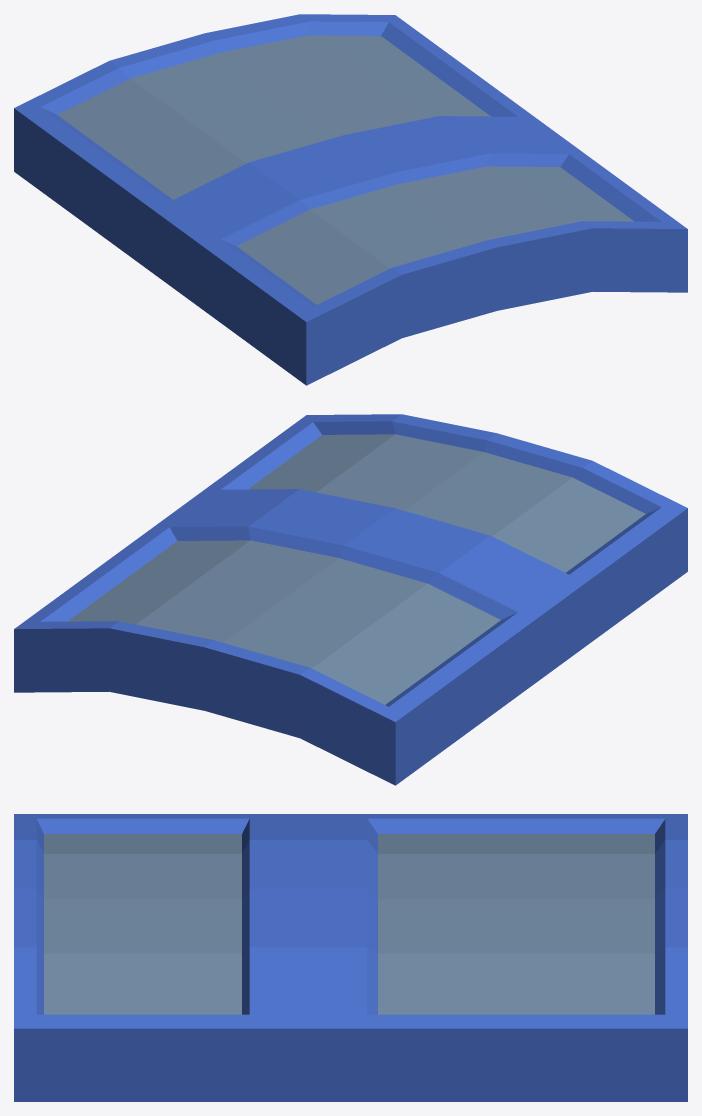
The model's file is Mothership_02_Roof_Hatch_Blue.fbx.
3 renders of one model, top to bottom at view 1: azimuth 30°, elevation 25°; view 2: azimuth 150°, elevation 25°; view 3: azimuth 270°, elevation 25°, orthographic. The views are drawn at different scales.
Visible parts, largest first — view 1: Mothership_02_Roof_Hatch_Blue; view 2: Mothership_02_Roof_Hatch_Blue; view 3: Mothership_02_Roof_Hatch_Blue.
Boxes of the visible parts, left/top/right/bottom form: Mothership_02_Roof_Hatch_Blue: left=14, top=14, right=687, bottom=385; Mothership_02_Roof_Hatch_Blue: left=14, top=414, right=687, bottom=785; Mothership_02_Roof_Hatch_Blue: left=14, top=814, right=687, bottom=1101.
Size of the model in its own units: 692 by 159 by 919.
2 materials, 2 textured.
